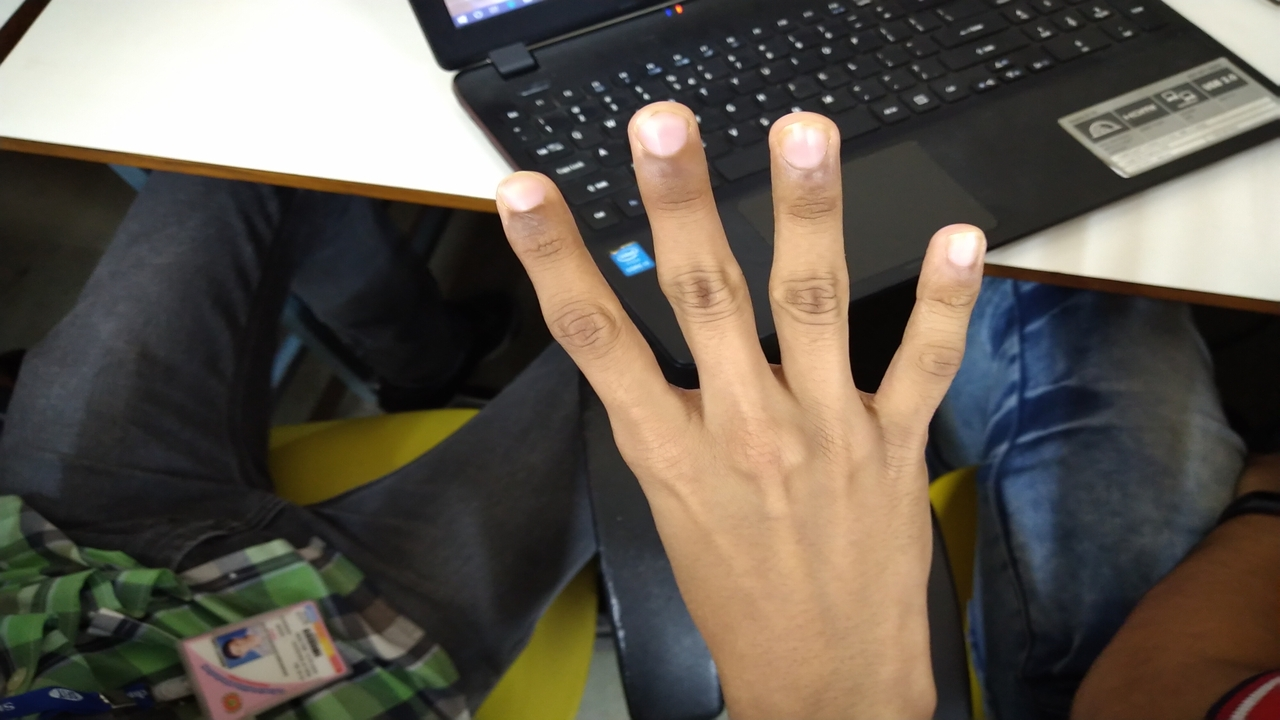fingertip: (486, 162, 562, 234), (922, 216, 998, 286), (624, 100, 694, 174), (768, 118, 840, 186)
